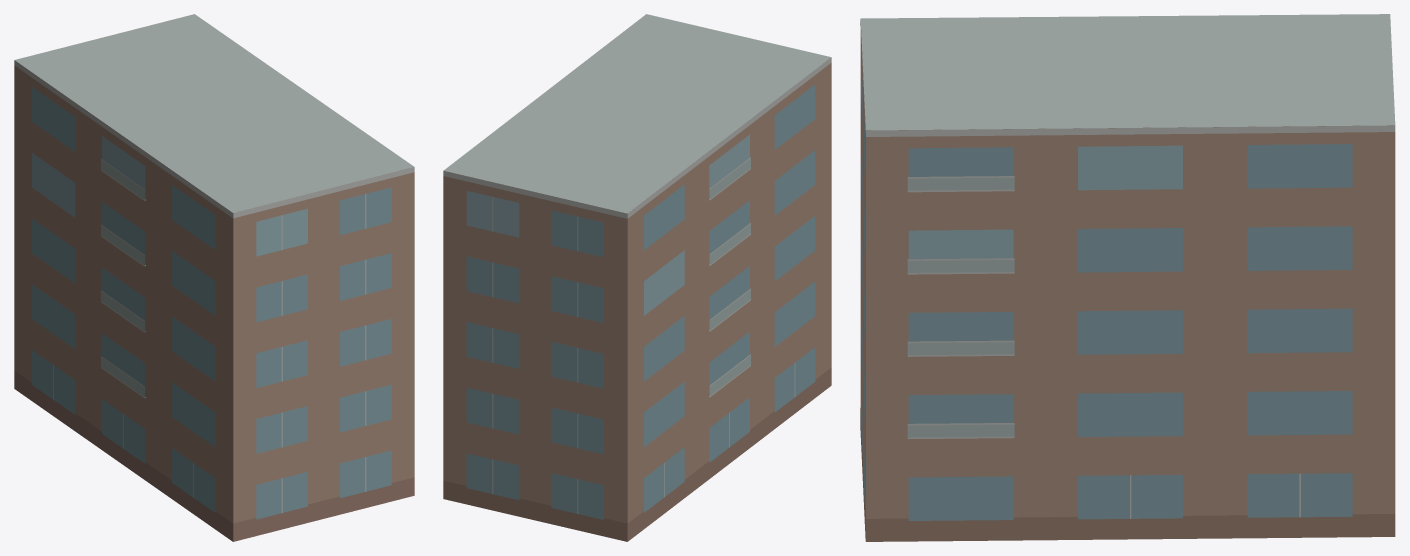
The model's file is survey-upis-32796884.glb.
3 views of the same model, side by side, from view 1: azimuth 30°, elevation 25°; view 2: azimuth 150°, elevation 25°; view 3: azimuth 270°, elevation 25° (orthographic). The views are drawn at different scales.
Visible parts, largest first — view 1: survey-upis-32796884.tmp; view 2: survey-upis-32796884.tmp; view 3: survey-upis-32796884.tmp.
Boxes of the visible parts, x1,y1,x2,y2 form: survey-upis-32796884.tmp: (14, 14, 414, 541); survey-upis-32796884.tmp: (443, 14, 831, 541); survey-upis-32796884.tmp: (860, 14, 1395, 541).
Bounding box in the file's own units: 9.22 × 15.18 × 17.89.
